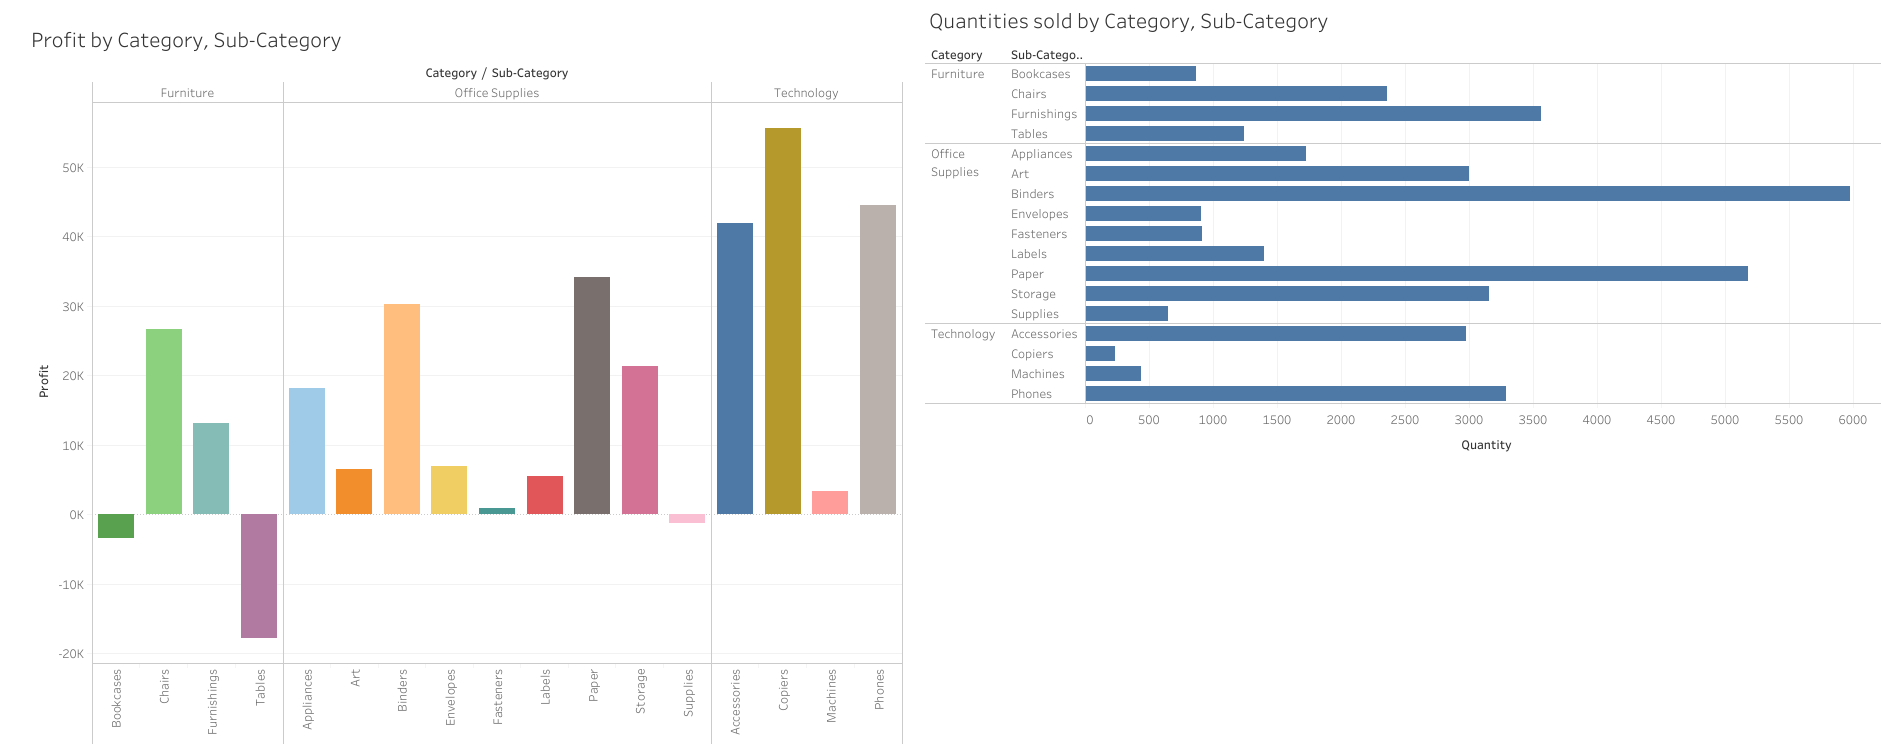

Layout of this report page (visuals, bound fields, positions):
{"tool":"tableau","page":{"name":"Dashboard","canvas":[1000,1000],"units":"permille","ordinal":0},"visuals":[{"type":"worksheet","title":"Quantities sold by Category, Sub-Category","mark":"Automatic","rows":["Category","Sub-Category"],"cols":["Quantity"],"box":[491.5,0,512.1,647.7]},{"type":"worksheet","title":"Profit by Category, Sub-Category","mark":"Automatic","rows":["Profit"],"cols":["Category","Sub-Category"],"box":[14.1,25.2,465.5,964.2]}]}

Visuals, with their boxes on the dashboard's canvas, which has no fixed pixel size, in thousandths of its width and height (x1, y1, x2, y2). These are canvas units, not pixel positions in the 1881x751 screenshot, which may show the page scaled, cropped or inside an application window:
"Quantities sold by Category, Sub-Category" worksheet: 492 0 1004 648
"Profit by Category, Sub-Category" worksheet: 14 25 480 989
